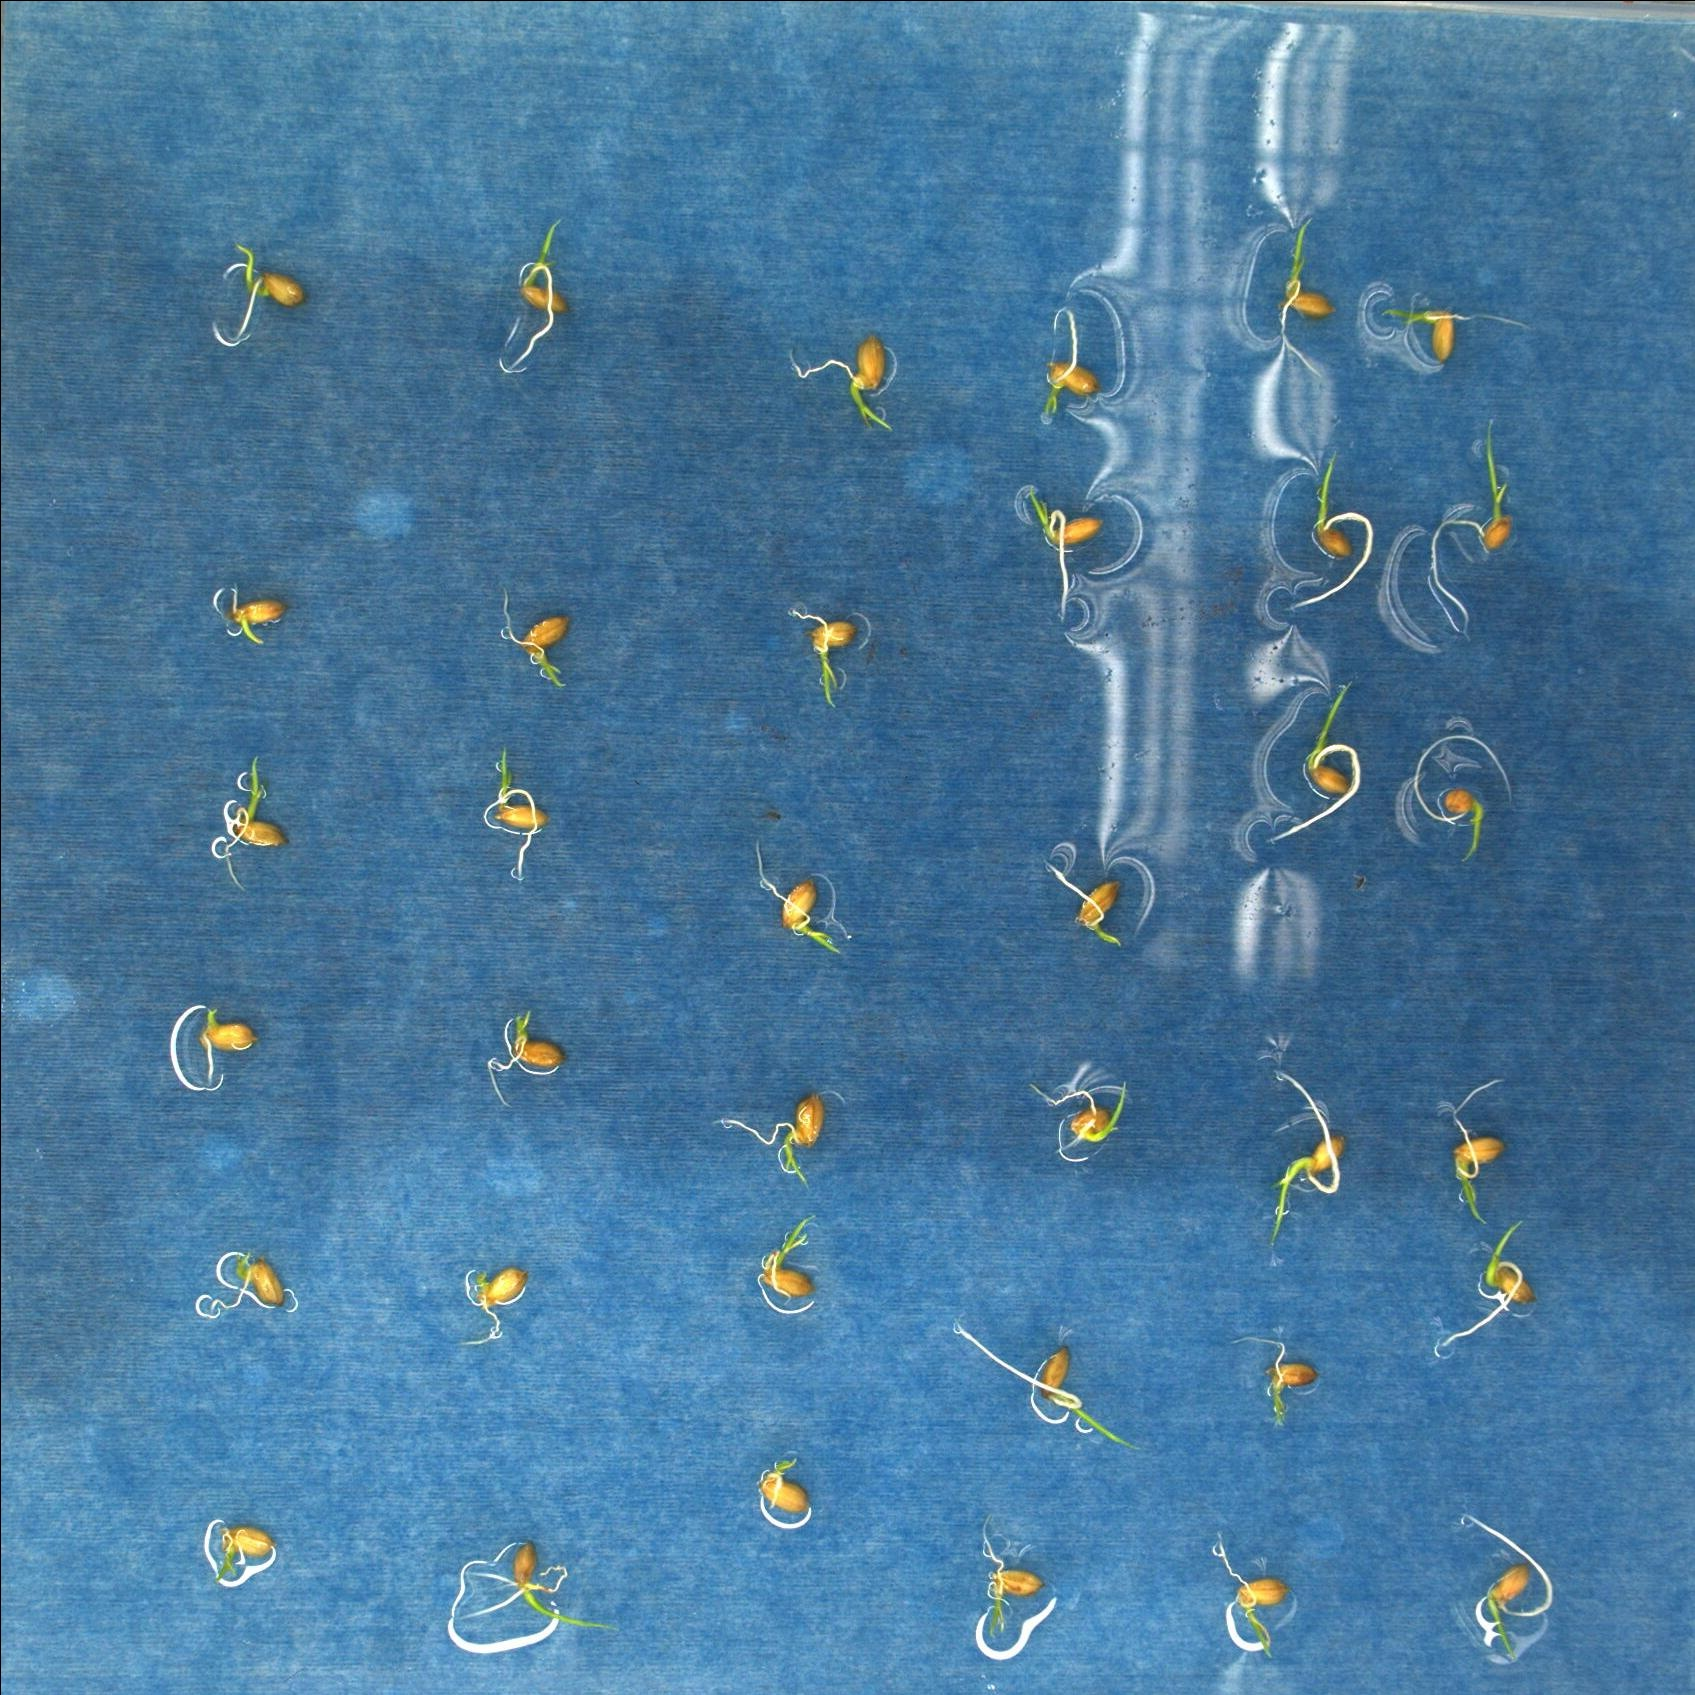not sprout: (459, 1267, 529, 1347)
sprout: (955, 1319, 1147, 1451), (1431, 419, 1515, 641), (1270, 681, 1361, 844), (459, 1540, 622, 1631), (1464, 1513, 1554, 1664), (1271, 1071, 1347, 1243), (1412, 736, 1512, 865), (1293, 452, 1374, 608), (1440, 1218, 1538, 1347), (1028, 484, 1105, 624), (789, 331, 896, 432), (712, 1093, 826, 1187), (754, 838, 841, 955), (1218, 1530, 1295, 1659), (508, 217, 571, 371), (224, 754, 290, 893), (1380, 306, 1534, 365), (1451, 1077, 1512, 1226), (1232, 1336, 1319, 1430), (487, 1009, 568, 1108), (494, 747, 551, 882), (983, 1513, 1045, 1638), (1029, 1079, 1128, 1155), (234, 241, 307, 343), (500, 584, 570, 688), (1043, 858, 1124, 947), (1279, 216, 1336, 338), (792, 607, 858, 708), (1042, 307, 1101, 419), (197, 1006, 261, 1083), (761, 1214, 818, 1299), (211, 1250, 287, 1312), (214, 1524, 276, 1582), (230, 585, 289, 644), (759, 1458, 810, 1515)
